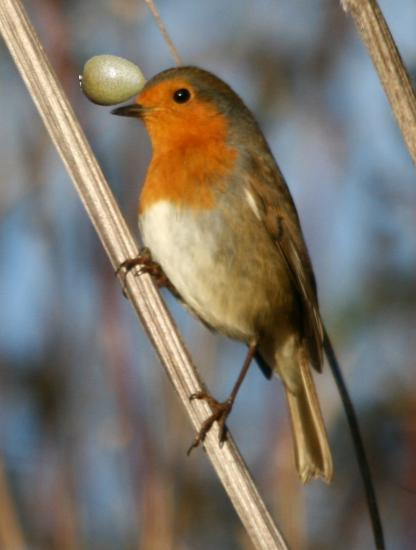Pear: (80, 46, 147, 113)
